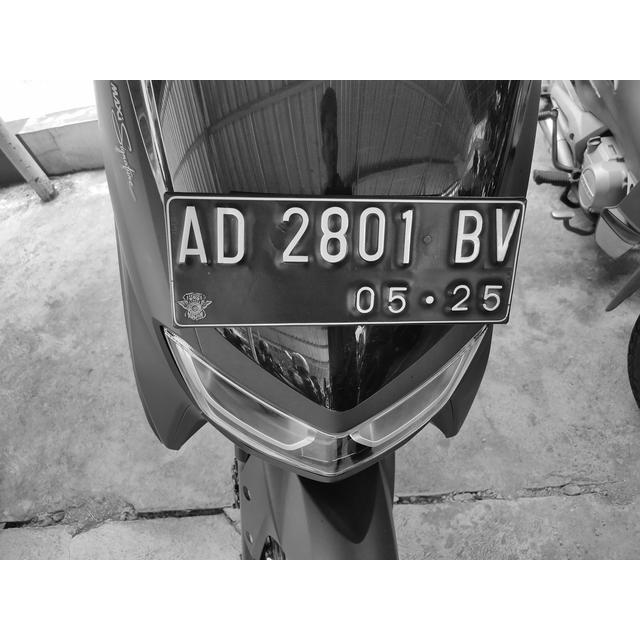license: (171, 202, 518, 319)
